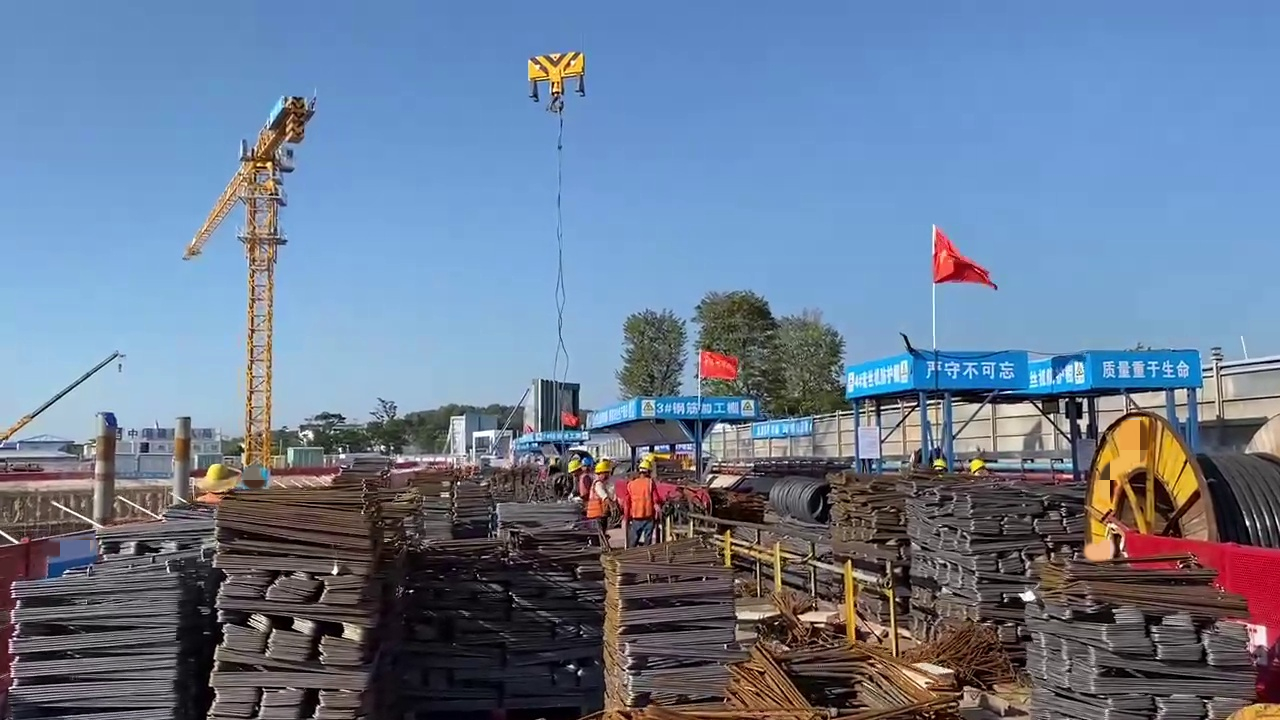helmet: (205, 461, 233, 480), (593, 459, 614, 472), (567, 460, 583, 472), (639, 463, 653, 471)
hook: (530, 52, 584, 102)
person: (625, 460, 659, 543), (591, 456, 614, 535), (197, 458, 238, 500), (562, 457, 590, 508)
rebar: (1028, 544, 1247, 720), (214, 490, 382, 719), (909, 484, 1060, 675), (7, 563, 187, 720), (597, 547, 742, 720), (741, 637, 969, 720), (830, 468, 901, 562)
slogan: (913, 353, 1030, 383), (1094, 349, 1195, 379)
vest: (627, 476, 653, 521)
